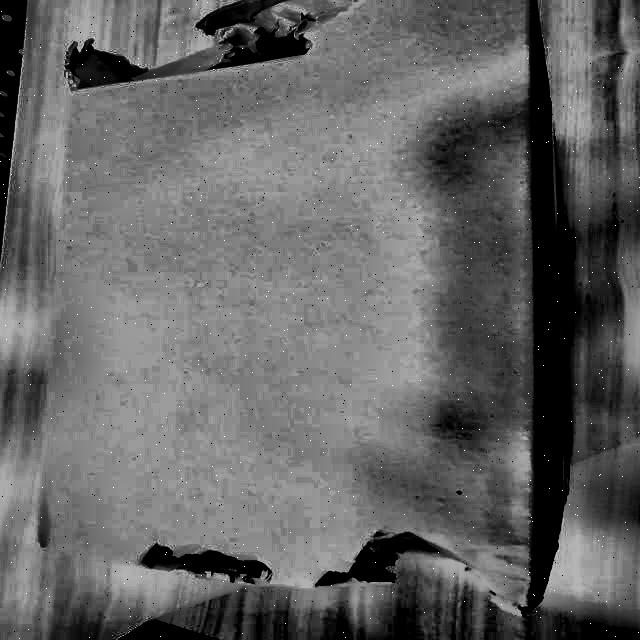box: (27, 1, 584, 625)
hole: (310, 533, 505, 610), (140, 531, 280, 587), (194, 28, 322, 83)
